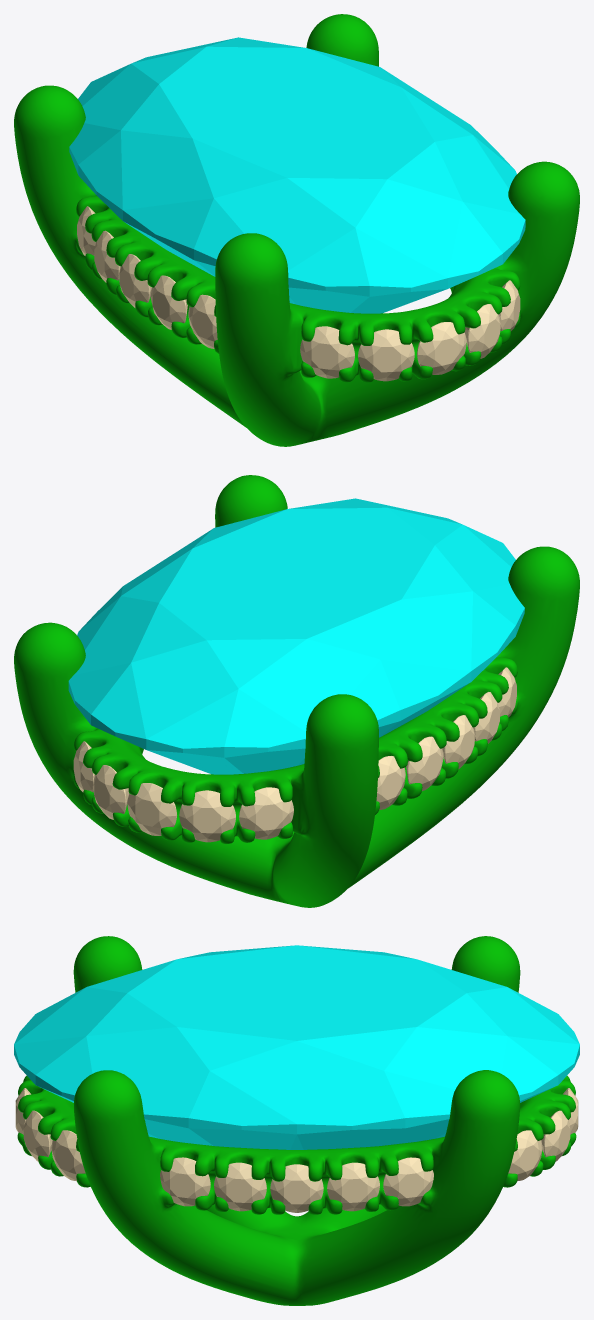
3 views of the same model, one above another, from view 1: azimuth 30°, elevation 25°; view 2: azimuth 150°, elevation 25°; view 3: azimuth 270°, elevation 25° (orthographic). The views are drawn at different scales.
Parts seen in each view (by area): view 1: Diamond_Oval, Metal01, Diamond_Round.001, Diamond_Round, Diamond_Round.002, Diamond_Round.011, Diamond_Round.003, Diamond_Round.010, Diamond_Round.012, Diamond_Round.013, Diamond_Round.004, Diamond_Round.014; view 2: Diamond_Oval, Metal01, Diamond_Round.018, Diamond_Round.019, Diamond_Round.017, Diamond_Round.013, Diamond_Round.016, Diamond_Round.014, Diamond_Round.012, Diamond_Round.011, Diamond_Round.015, Diamond_Round.010; view 3: Diamond_Oval, Metal01, Diamond_Round.008, Diamond_Round.006, Diamond_Round.007, Diamond_Round.005, Diamond_Round.009, Diamond_Round.004, Diamond_Round.015, Diamond_Round.016, Diamond_Round.003.
Part boxes in pixels (<box>): Diamond_Oval: <box>69,37,525,313</box>; Metal01: <box>14,14,579,446</box>; Diamond_Round.001: <box>358,329,414,381</box>; Diamond_Round: <box>300,326,354,378</box>; Diamond_Round.002: <box>417,322,466,374</box>; Diamond_Round.011: <box>150,275,187,329</box>; Diamond_Round.003: <box>464,304,501,358</box>; Diamond_Round.010: <box>188,294,217,348</box>; Diamond_Round.012: <box>118,254,151,307</box>; Diamond_Round.013: <box>94,230,120,282</box>; Diamond_Round.004: <box>499,280,520,331</box>; Diamond_Round.014: <box>77,206,95,255</box>; Diamond_Oval: <box>68,498,524,774</box>; Metal01: <box>14,475,579,907</box>; Diamond_Round.018: <box>179,790,235,842</box>; Diamond_Round.019: <box>239,787,293,839</box>; Diamond_Round.017: <box>127,783,176,835</box>; Diamond_Round.013: <box>406,736,443,790</box>; Diamond_Round.016: <box>92,765,129,819</box>; Diamond_Round.014: <box>376,756,405,809</box>; Diamond_Round.012: <box>442,715,475,768</box>; Diamond_Round.011: <box>473,692,499,743</box>; Diamond_Round.015: <box>73,741,94,792</box>; Diamond_Round.010: <box>498,667,516,717</box>; Diamond_Oval: <box>14,945,579,1149</box>; Metal01: <box>17,936,576,1305</box>; Diamond_Round.008: <box>214,1162,266,1211</box>; Diamond_Round.006: <box>327,1162,379,1211</box>; Diamond_Round.007: <box>270,1164,323,1212</box>; Diamond_Round.005: <box>383,1157,433,1206</box>; Diamond_Round.009: <box>160,1157,210,1206</box>; Diamond_Round.004: <box>51,1130,85,1181</box>; Diamond_Round.015: <box>508,1130,542,1181</box>; Diamond_Round.016: <box>541,1110,570,1161</box>; Diamond_Round.003: <box>23,1110,52,1161</box>.
Bounding box in the file's own units: 7.95 × 6.8 × 11.7.
